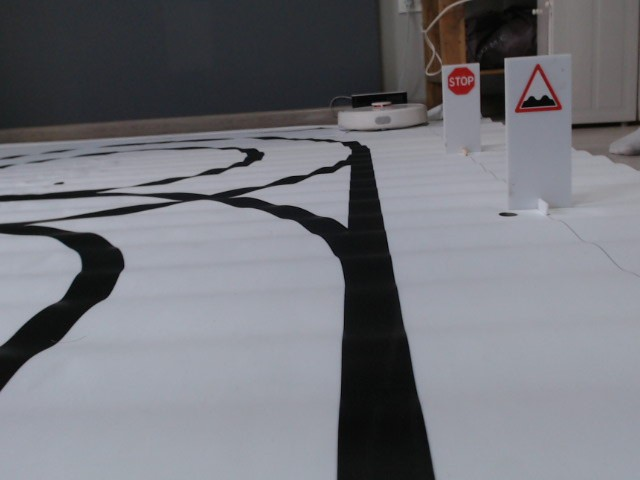Nerov: (513, 63, 563, 112)
